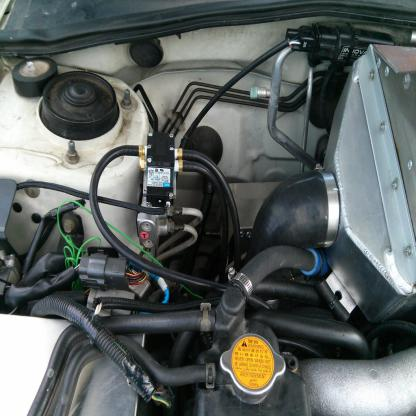Car: (20, 34, 416, 416)
